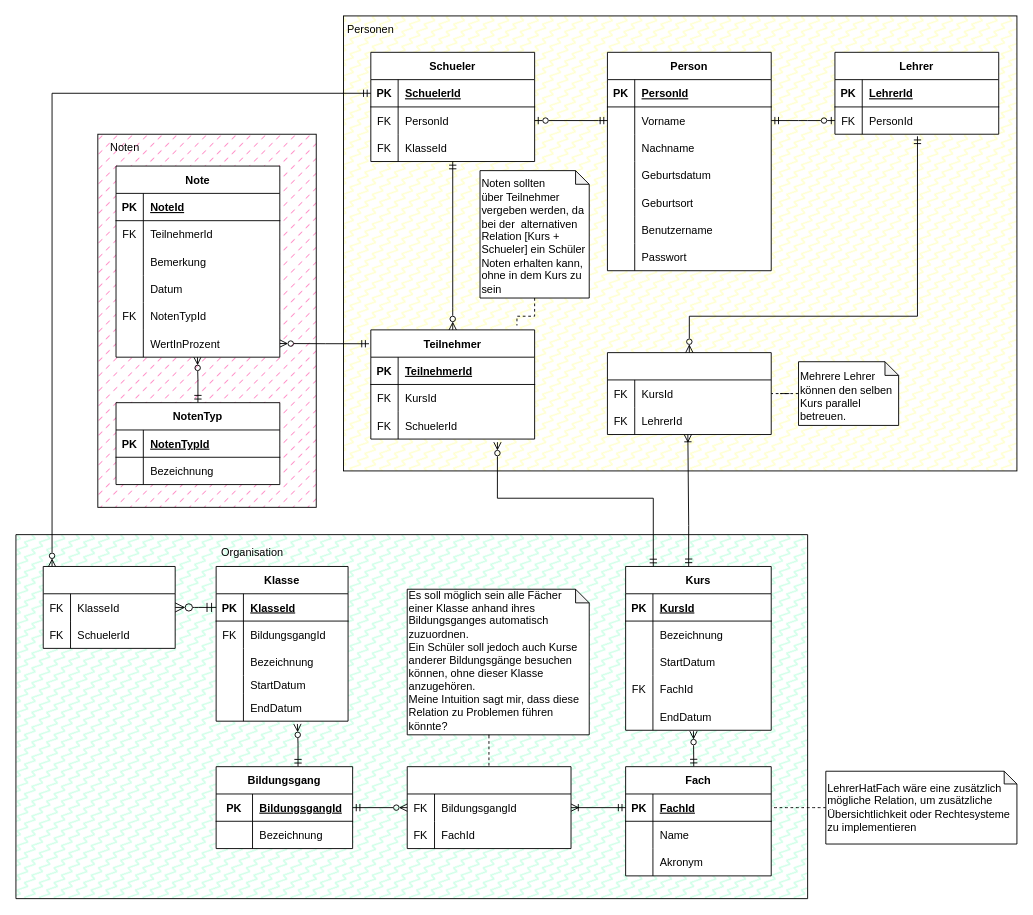
The diagram is 1033 pixels wide and 915 high, and some of its shapes have lost their labels. Each missing label, with the box of its shape:
BildungsgangHatFach: (406, 766, 571, 849)
Dozent: (607, 352, 771, 435)
SchuelerHatKlasse: (42, 566, 175, 648)
